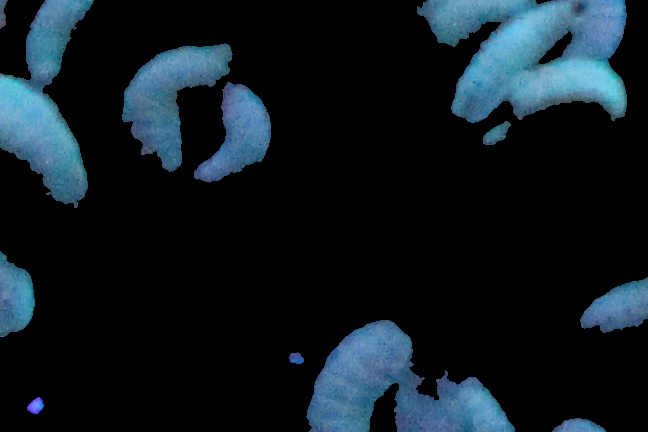larvae: (1, 64, 103, 269), (110, 30, 237, 182), (448, 1, 594, 129), (305, 306, 415, 429), (511, 48, 634, 127), (203, 76, 271, 198), (18, 1, 107, 92), (567, 1, 631, 67)
